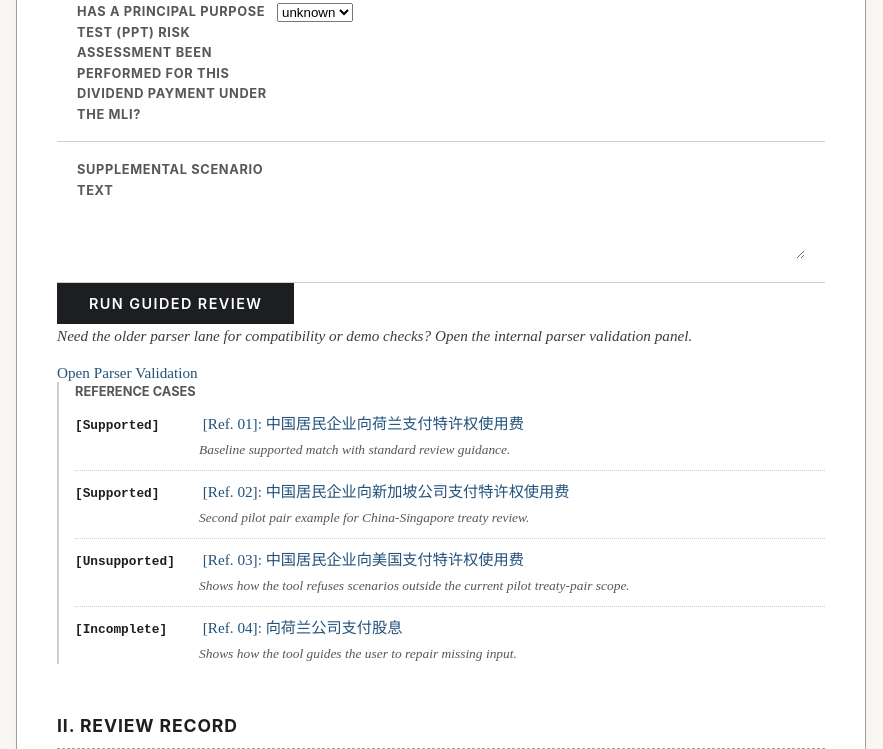
Test: shows missing-input guidance for unsupported or incomplete scenarios
The image size is (883, 749).
(page scrolled)
Click the button "Open Parser Validation" at [127, 373], box [57,364,198,382]
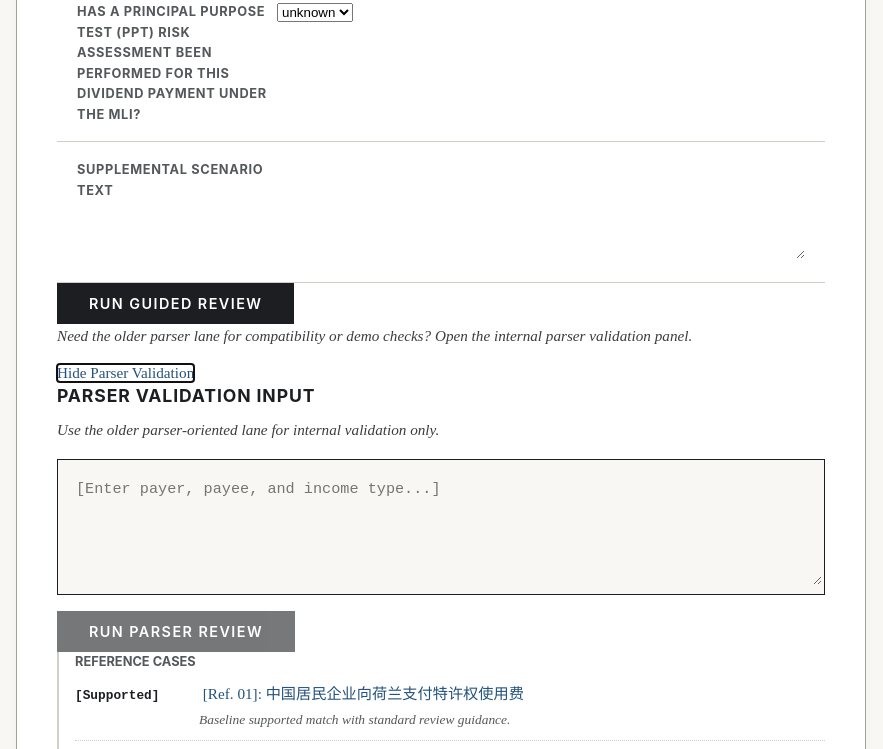
Type "向荷兰公司支付股息" into the text box named "cross-border scenario" at [441, 523], box [60,462,822,585]
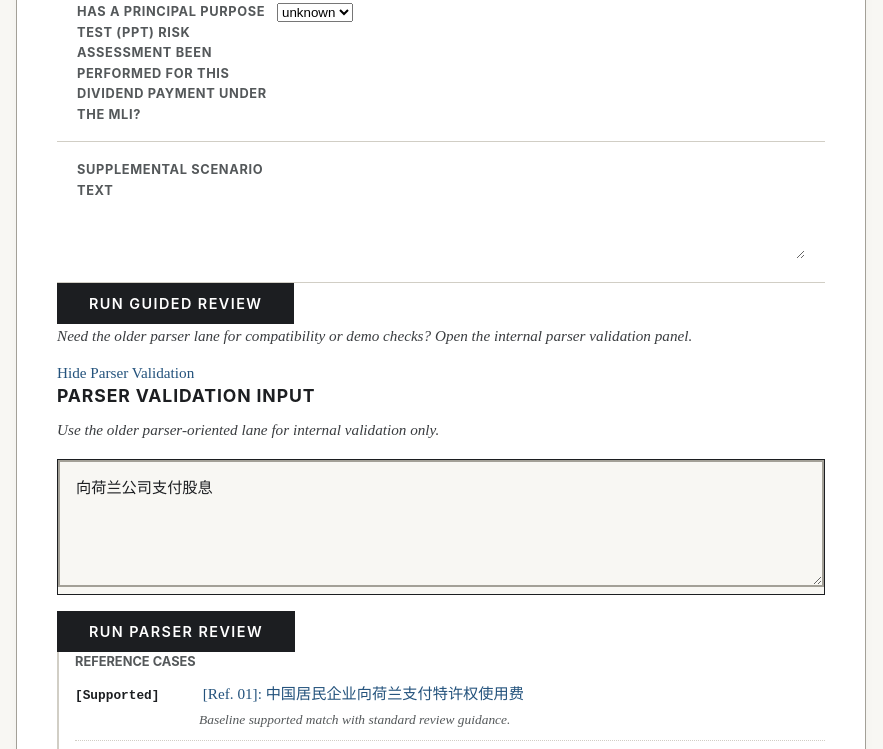
Click the button "Run Parser Review" at [176, 632], box [57,611,295,652]
(page scrolled)
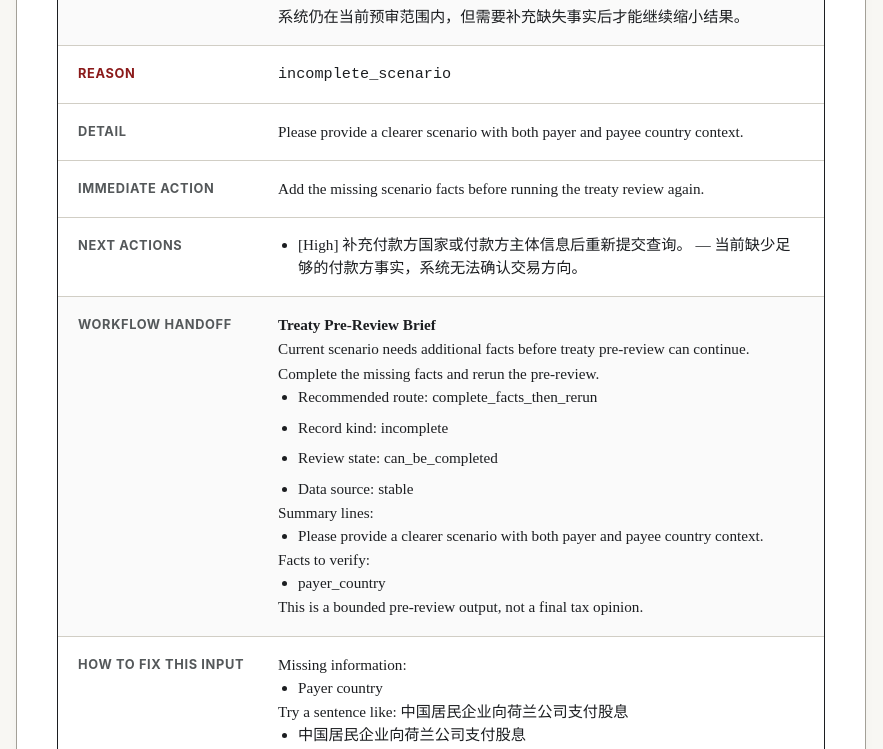
expect the text "系统仍在当前预审范围内，但需要补充缺失事实后才能继续缩小结果。" is shown: met, box [278,5,804,29]
expect the text "Immediate Action" is shown: met, box [78,181,214,196]
expect the text "Add the missing scenario facts before running the treaty review again" is shown: met, box [278,180,704,197]
